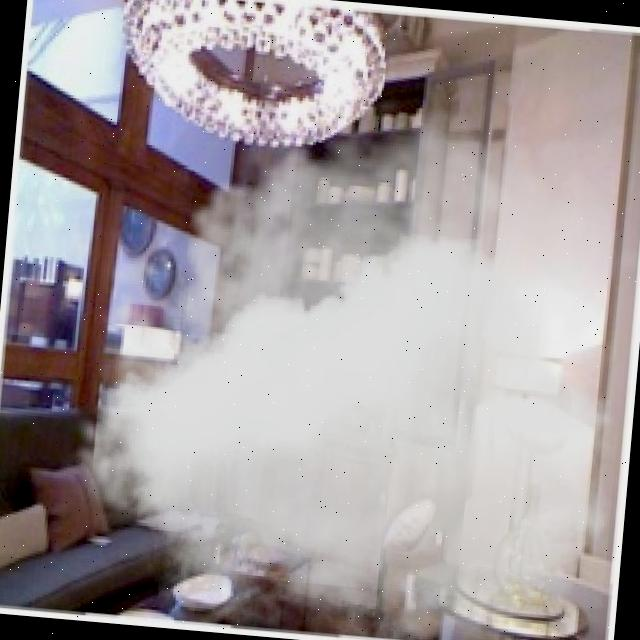smoke: (45, 59, 640, 640)
